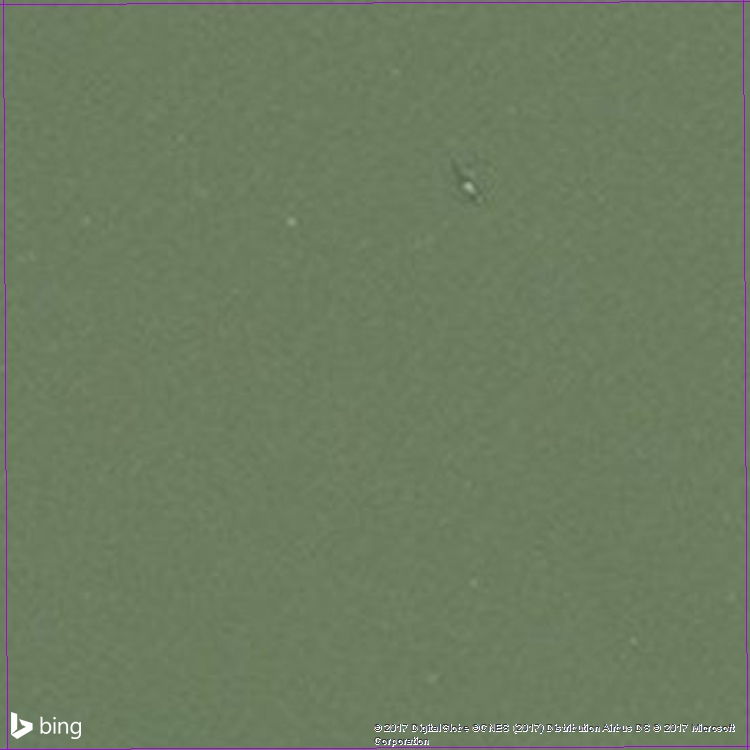boat: (444, 145, 487, 211)
